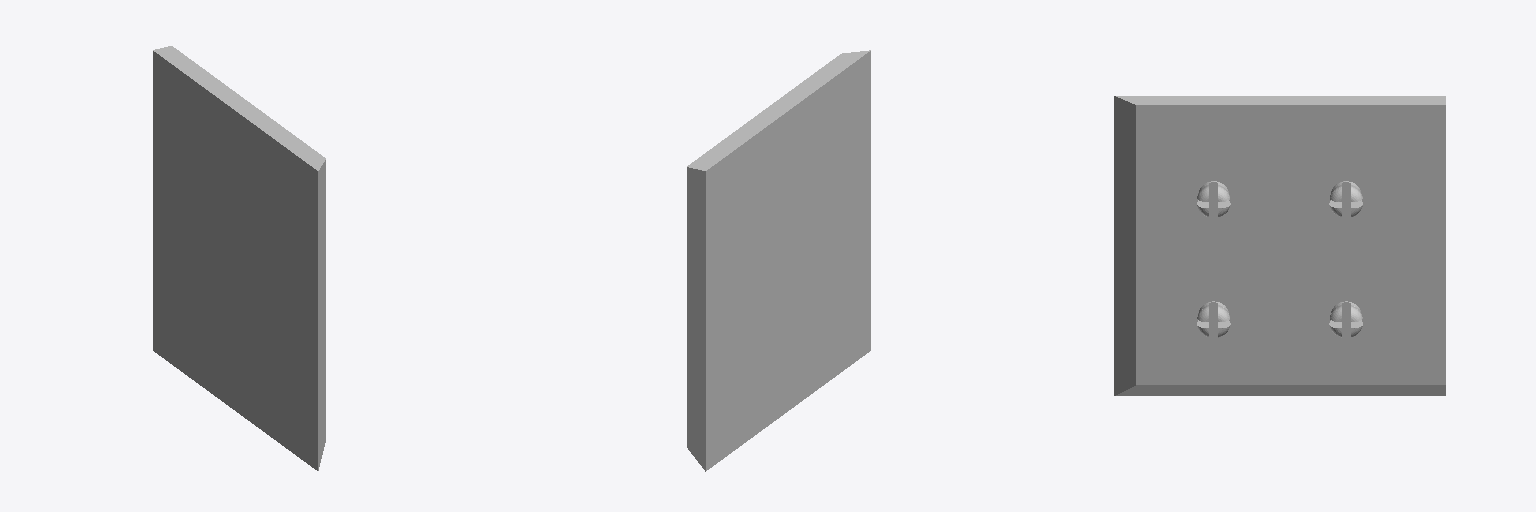
Rendered from B9 (Corner Cover) v2 (ABS plastic).obj.
The picture shows the model from 3 angles: view 1: azimuth 30°, elevation 25°; view 2: azimuth 150°, elevation 25°; view 3: azimuth 270°, elevation 25°; orthographic projection.
Parts seen in each view (by area): view 1: Body1; view 2: Body1; view 3: Body1, Body2, Body3, Body4, Body5.
Boxes of the visible parts, x1=… form: Body1: x1=153, y1=46, x2=325, y2=470; Body1: x1=687, y1=50, x2=870, y2=471; Body1: x1=1114, y1=96, x2=1445, y2=395; Body2: x1=1197, y1=181, x2=1230, y2=216; Body3: x1=1329, y1=181, x2=1362, y2=216; Body4: x1=1197, y1=301, x2=1230, y2=337; Body5: x1=1329, y1=301, x2=1362, y2=337.
Bounding box in the file's own units: 21.45 × 150 × 150.